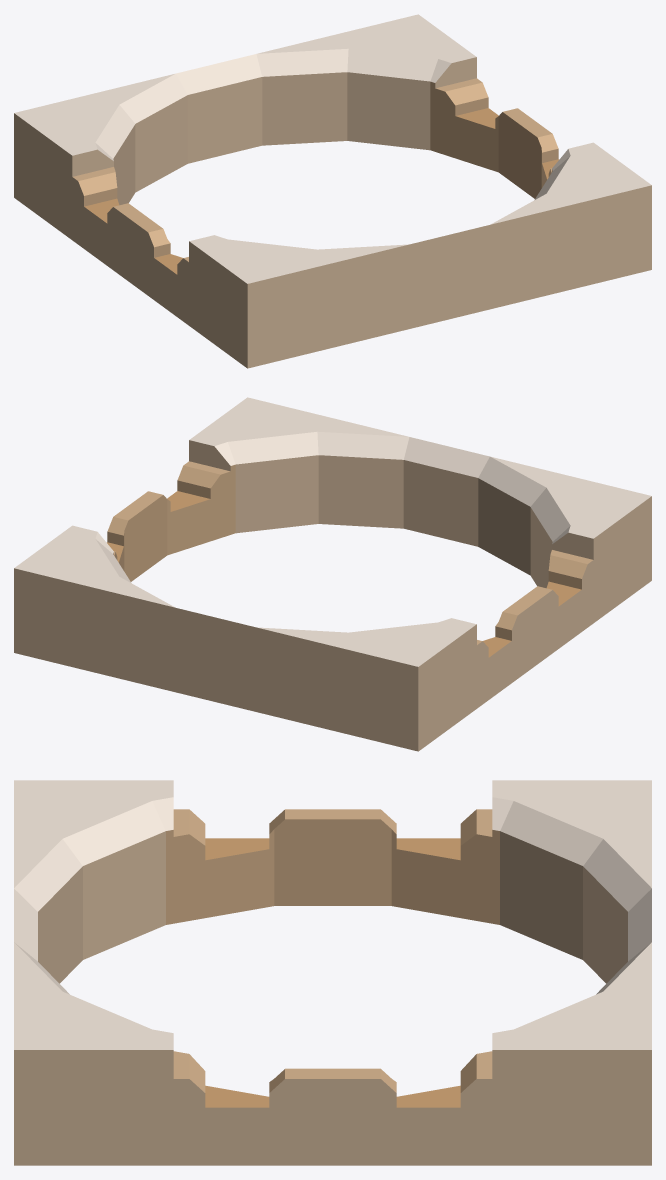
File: Puzzle_Track_Rotating_Housing_Straight.fbx
The picture shows the model from 3 angles, top to bottom: view 1: azimuth 30°, elevation 25°; view 2: azimuth 150°, elevation 25°; view 3: azimuth 270°, elevation 25°; orthographic projection. The views are drawn at different scales.
Visible parts, largest first — view 1: Sandstone_Trim.Sandstone_Trim.Sandstone_Trim.Sandstone_Trim., Sandstone_Floor.Sandstone_Floor.Sandstone_Floor.Sandstone_Fl, Sandstone_4.Sandstone_4.Sandstone_4.Sandstone_4.Sandstone_4., Sandstone_5.Sandstone_5.Sandstone_5.Sandstone_5; view 2: Sandstone_Trim.Sandstone_Trim.Sandstone_Trim.Sandstone_Trim., Sandstone_Floor.Sandstone_Floor.Sandstone_Floor.Sandstone_Fl, Sandstone_4.Sandstone_4.Sandstone_4.Sandstone_4.Sandstone_4., Sandstone_5.Sandstone_5.Sandstone_5.Sandstone_5; view 3: Sandstone_Trim.Sandstone_Trim.Sandstone_Trim.Sandstone_Trim., Sandstone_Floor.Sandstone_Floor.Sandstone_Floor.Sandstone_Fl, Sandstone_4.Sandstone_4.Sandstone_4.Sandstone_4.Sandstone_4., Sandstone_5.Sandstone_5.Sandstone_5.Sandstone_5.
Boxes of the visible parts, x1,y1,x2,y2 form: Sandstone_Trim.Sandstone_Trim.Sandstone_Trim.Sandstone_Trim.: (14, 57, 651, 368); Sandstone_Floor.Sandstone_Floor.Sandstone_Floor.Sandstone_Fl: (14, 14, 651, 283); Sandstone_4.Sandstone_4.Sandstone_4.Sandstone_4.Sandstone_4.: (73, 78, 558, 261); Sandstone_5.Sandstone_5.Sandstone_5.Sandstone_5: (84, 108, 558, 274); Sandstone_Trim.Sandstone_Trim.Sandstone_Trim.Sandstone_Trim.: (14, 440, 651, 751); Sandstone_Floor.Sandstone_Floor.Sandstone_Floor.Sandstone_Fl: (14, 397, 651, 666); Sandstone_4.Sandstone_4.Sandstone_4.Sandstone_4.Sandstone_4.: (107, 461, 592, 644); Sandstone_5.Sandstone_5.Sandstone_5.Sandstone_5: (107, 491, 581, 657); Sandstone_Trim.Sandstone_Trim.Sandstone_Trim.Sandstone_Trim.: (14, 831, 651, 1165); Sandstone_Floor.Sandstone_Floor.Sandstone_Floor.Sandstone_Fl: (14, 780, 651, 1049); Sandstone_4.Sandstone_4.Sandstone_4.Sandstone_4.Sandstone_4.: (166, 809, 499, 1092); Sandstone_5.Sandstone_5.Sandstone_5.Sandstone_5: (205, 838, 460, 1107).
Size of the model in its own units: 1 by 0.2 by 1.
